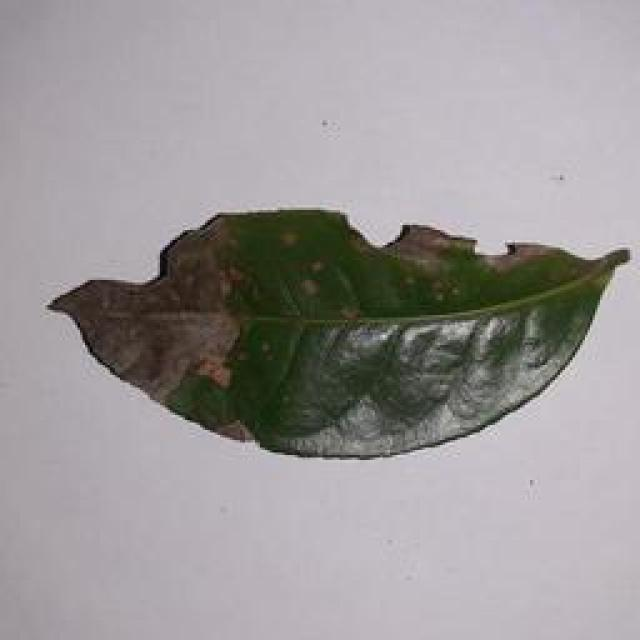Brown Blight: (37, 193, 638, 459)
